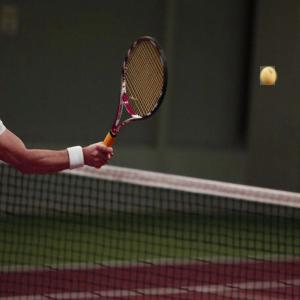TennisBall: (261, 67, 277, 87)
